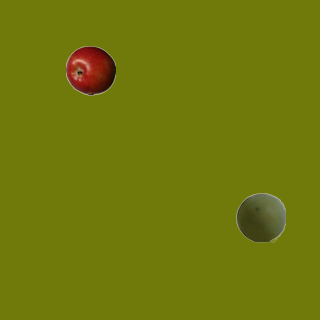Apple Braeburn: (65, 45, 115, 95)
Grape White 4: (235, 192, 285, 242)
